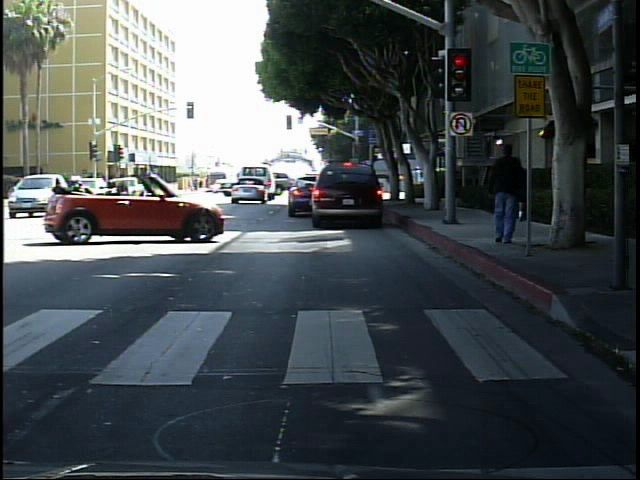person: (481, 134, 530, 249), (506, 148, 531, 231)
